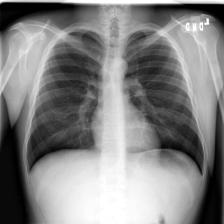normal: (24, 24, 206, 178)
